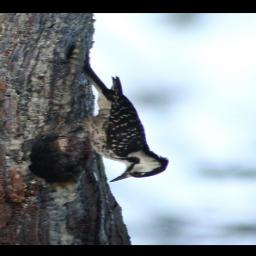Woodpecker: (46, 63, 171, 184)
